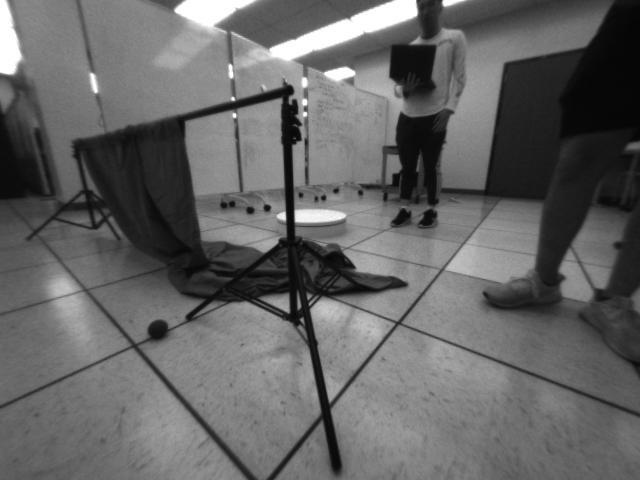dogtoy: (142, 311, 174, 345)
